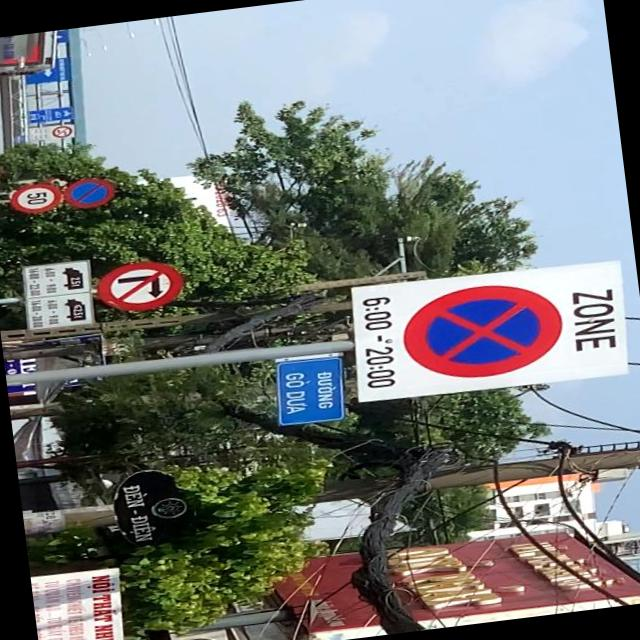P-123b: (95, 258, 188, 316)
P-127: (8, 180, 61, 217)
P-130: (394, 278, 568, 386)
P-131a: (62, 173, 116, 210)
